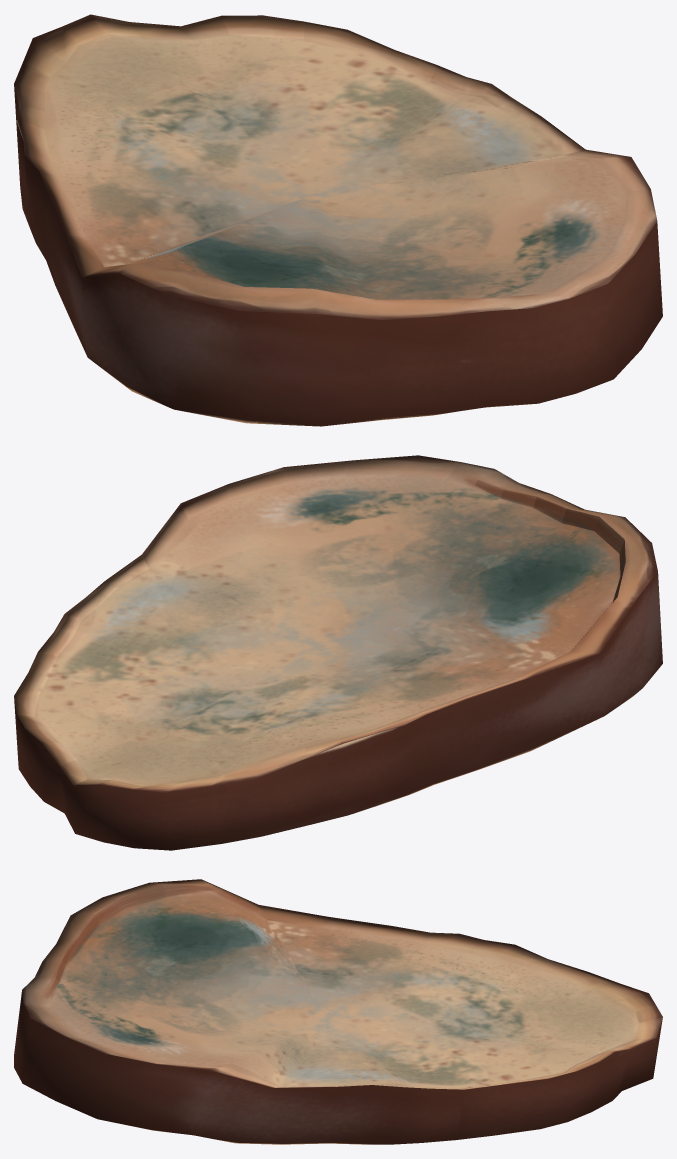
Rendered from brood.fbx.
The picture shows the model from 3 angles, top to bottom: view 1: azimuth 30°, elevation 25°; view 2: azimuth 150°, elevation 25°; view 3: azimuth 270°, elevation 25°; orthographic projection. The views are drawn at different scales.
Parts seen in each view (by area): view 1: pCylinder1; view 2: pCylinder1; view 3: pCylinder1.
Boxes of the visible parts, x1,y1,x2,y2 form: pCylinder1: [14, 14, 662, 426]; pCylinder1: [14, 455, 662, 850]; pCylinder1: [14, 879, 662, 1144].
Bounding box in the file's own units: 2.08 × 0.5428 × 3.16.
